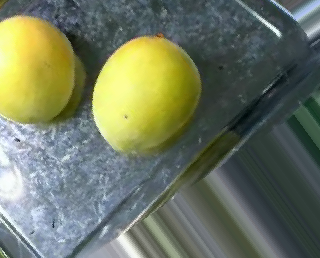Mango: (92, 35, 208, 157), (0, 16, 83, 123)
